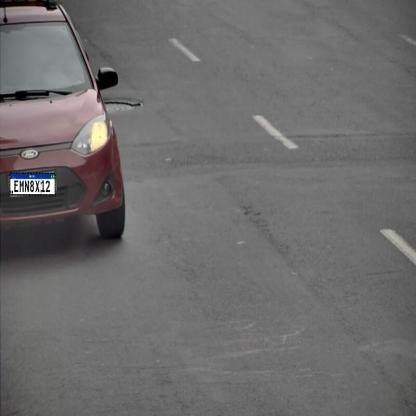PlacaM: (9, 172, 56, 196)
